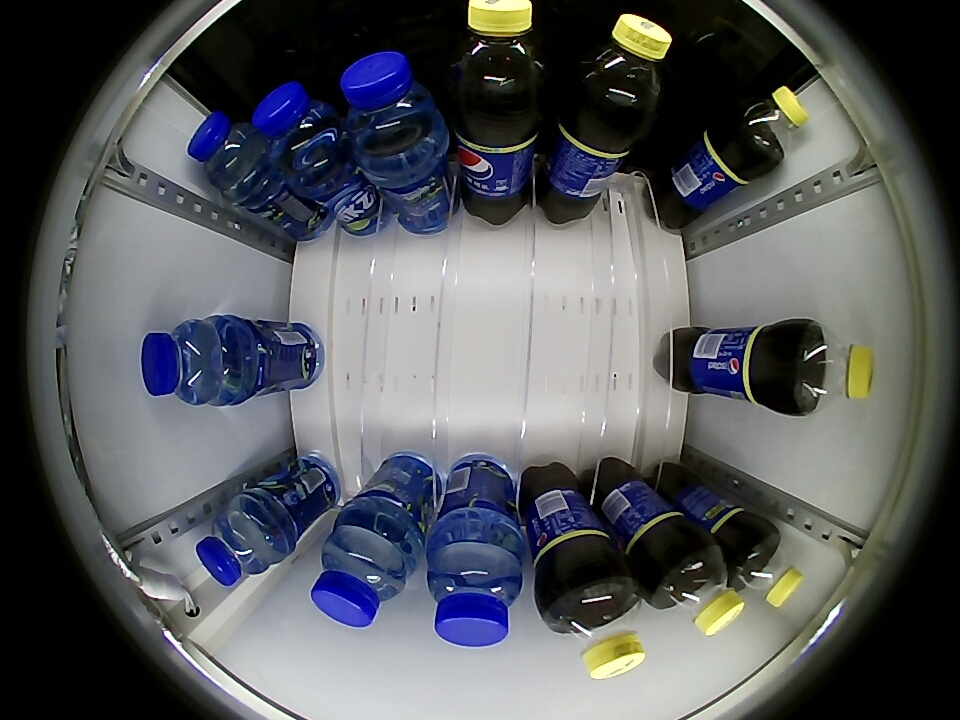baishikele: (543, 573, 646, 681), (572, 12, 673, 121), (447, 0, 551, 103), (651, 544, 746, 636), (790, 323, 875, 414), (733, 86, 808, 163), (730, 530, 803, 608)
maidong: (339, 50, 445, 164), (310, 522, 412, 629), (426, 538, 523, 648), (251, 81, 343, 178), (141, 317, 238, 406), (195, 500, 285, 587), (186, 112, 269, 196)
